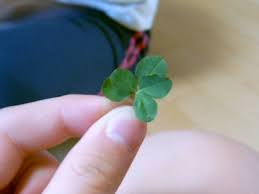4-clover: (103, 54, 176, 124)
